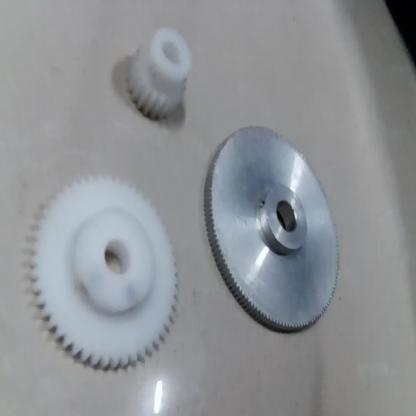FOD: (23, 162, 182, 371), (201, 126, 345, 335), (123, 24, 201, 124)
